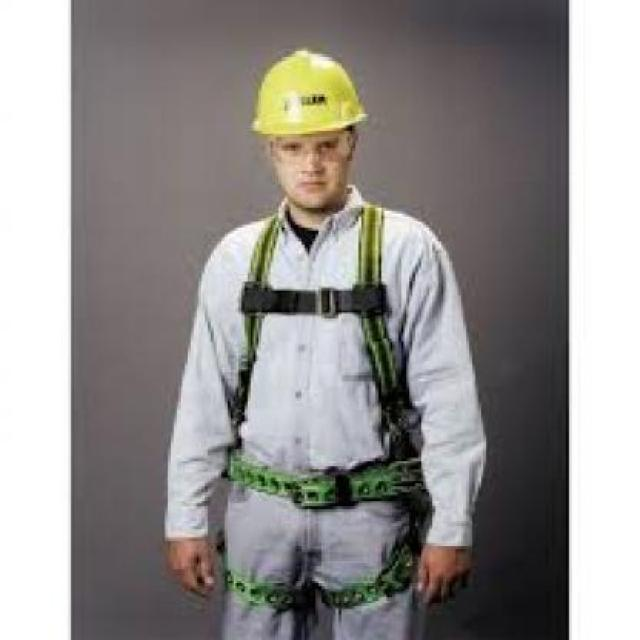Harness: (217, 201, 428, 622)
